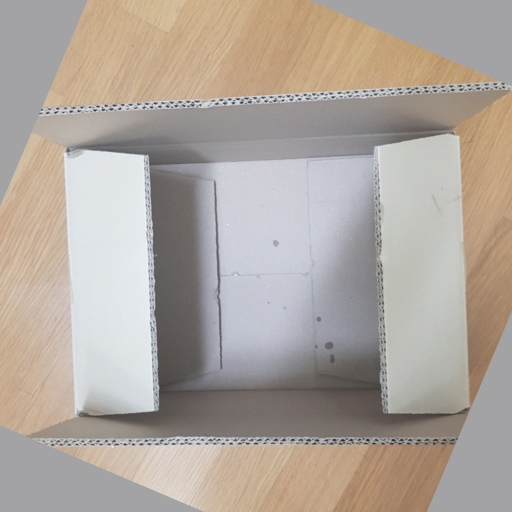Paper_0: (19, 83, 512, 457)
